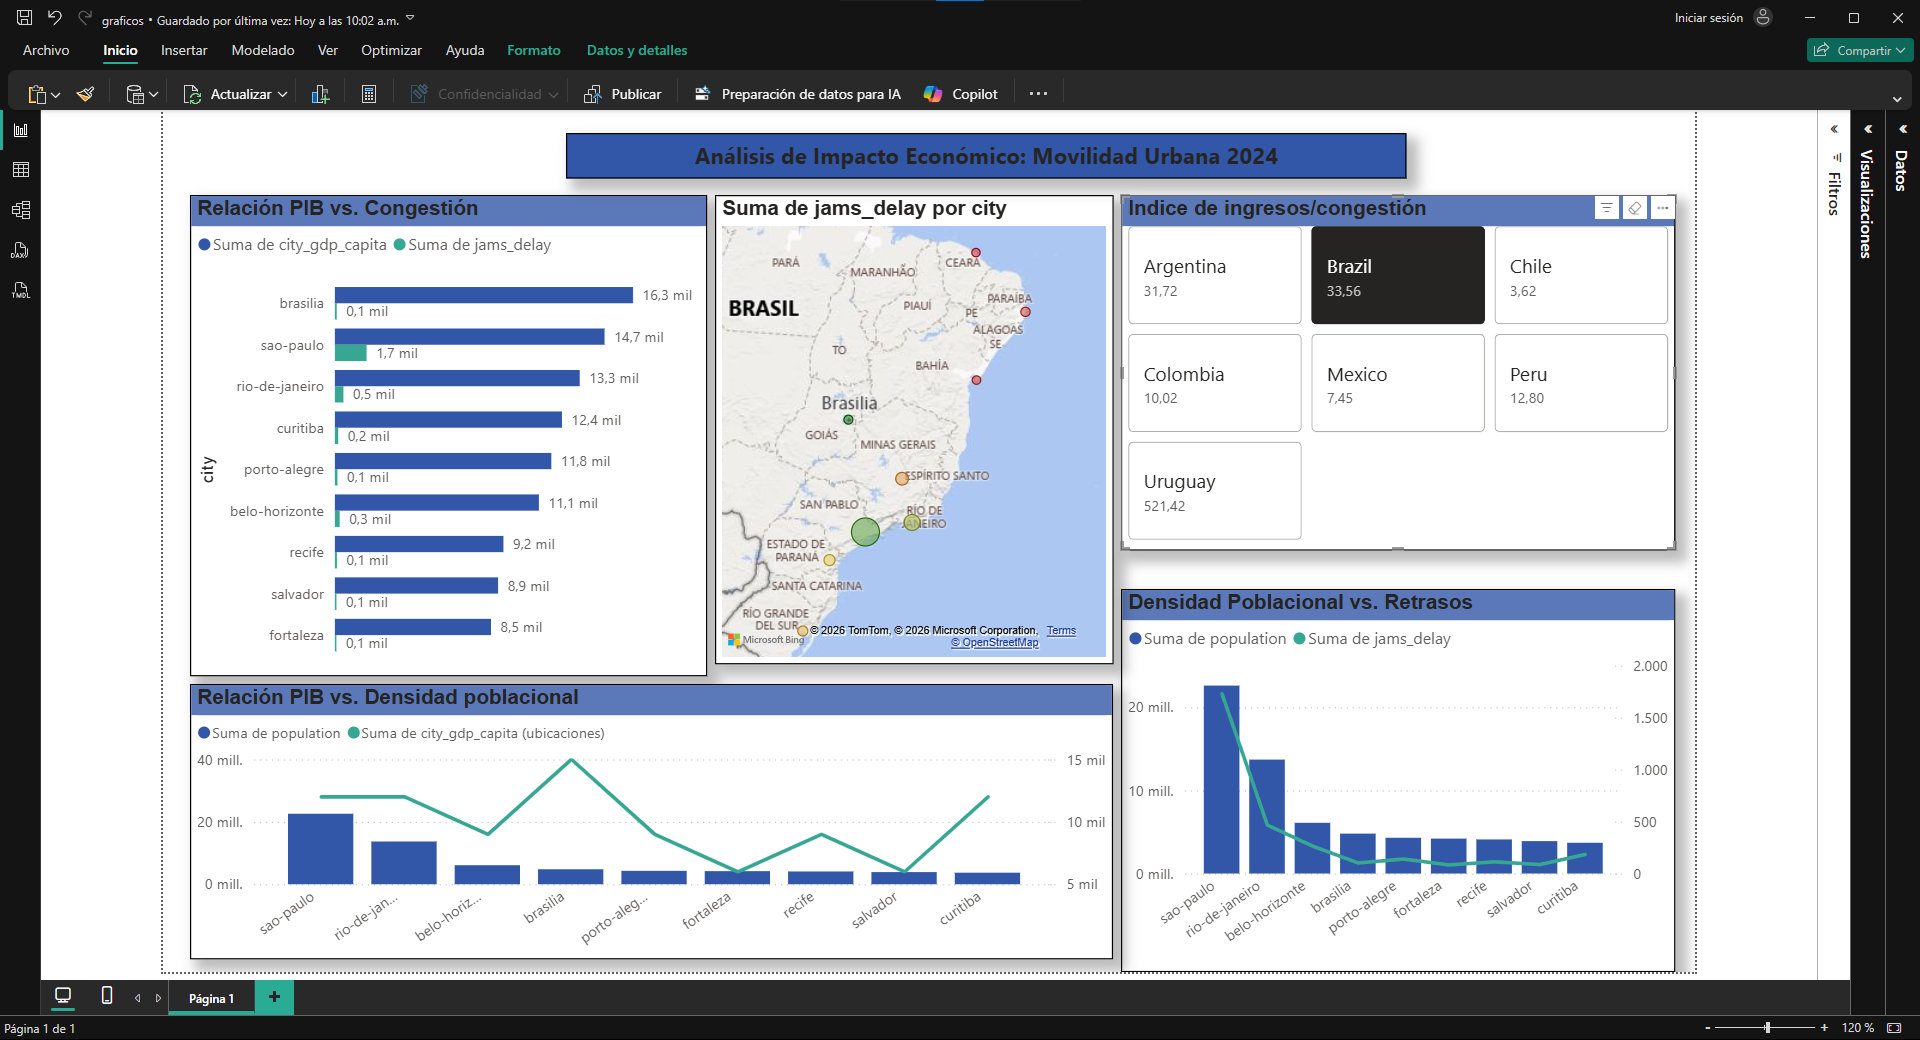

The dashboard page shown, as its layout file describes it:
{"tool":"powerbi","page":{"name":"Página 1","canvas":[1280,720],"ordinal":0},"visuals":[{"type":"clusteredBarChart","title":"Relación PIB vs. Congestión","fields":{"Category":["movilidad_economica_final.city"],"Y":["Sum(movilidad_economica_final.city_gdp_capita)","Sum(movilidad_economica_final.jams_delay)"]},"box":[22.4,70.7,432.1,401.9],"z":0},{"type":"lineStackedColumnComboChart","title":"Densidad Poblacional vs. Retrasos","fields":{"Category":["movilidad_economica_final.city"],"Y":["Sum(movilidad_economica_final.population)"],"Y2":["Sum(movilidad_economica_final.jams_delay)"]},"box":[800.4,400.2,463.2,320],"z":1000},{"type":"lineStackedColumnComboChart","title":"Relación PIB vs. Densidad poblacional","fields":{"Category":["movilidad_economica_final.city"],"Y2":["Sum(movilidad_economica_final.city_gdp_capita (ubicaciones))"],"Y":["Sum(movilidad_economica_final.population)"]},"box":[22.8,479.8,771.3,230.3],"z":2000},{"type":"advancedSlicerVisual","title":"Indice de ingresos/congestión","fields":{"Values":["movilidad_economica_final.country"],"Label":["movilidad_economica_final.indice_eficiencia"]},"box":[800.2,70.9,463.1,296.8],"z":3000},{"type":"map","fields":{"Category":["movilidad_economica_final.city"],"Size":["Sum(movilidad_economica_final.jams_delay)"]},"box":[461.4,70.9,332.7,392.2],"z":4000},{"type":"textbox","title":"Análisis de Impacto Económico: Movilidad Urbana 2024","box":[336.6,19.2,702.5,37.6],"z":5000}]}

Visuals, with their boxes on the page's 1280x720 design canvas (x1, y1, x2, y2). These are canvas units, not pixel positions in the 1920x1040 screenshot, which may show the page scaled, cropped or inside an application window:
"Relación PIB vs. Congestión" clusteredBarChart: rect(22, 71, 454, 473)
"Densidad Poblacional vs. Retrasos" lineStackedColumnComboChart: rect(800, 400, 1264, 720)
"Relación PIB vs. Densidad poblacional" lineStackedColumnComboChart: rect(23, 480, 794, 710)
"Indice de ingresos/congestión" advancedSlicerVisual: rect(800, 71, 1263, 368)
map - movilidad_economica_final.city x Sum(movilidad_economica_final.jams_delay): rect(461, 71, 794, 463)
"Análisis de Impacto Económico: Movilidad Urbana 2024" textbox: rect(337, 19, 1039, 57)
